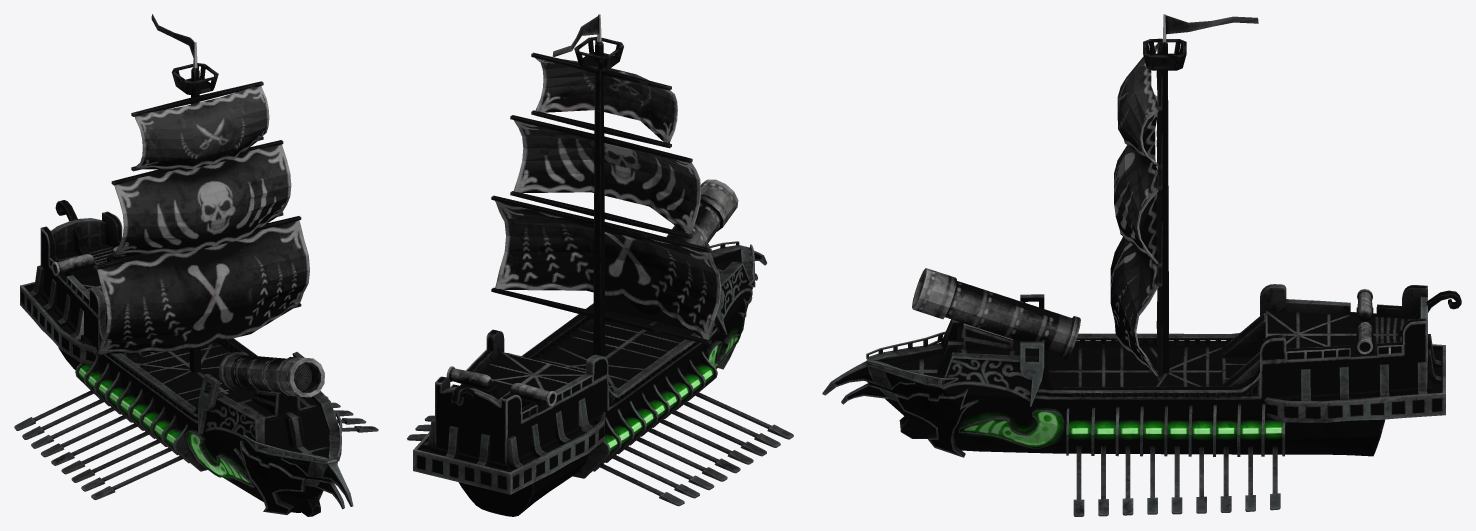
File: gemi11_uv.glb
3 views of the same model, side by side, from view 1: azimuth 30°, elevation 25°; view 2: azimuth 150°, elevation 25°; view 3: azimuth 270°, elevation 25° (orthographic). The views are drawn at different scales.
Parts seen in each view (by area): view 1: part_2_Yelken_Sağlam.001, part_1_Gövde.005, part_0_Gövde.006; view 2: part_1_Gövde.005, part_2_Yelken_Sağlam.001, part_0_Gövde.006; view 3: part_1_Gövde.005, part_2_Yelken_Sağlam.001, part_0_Gövde.006.
Boxes of the visible parts, <box> form: part_2_Yelken_Sağlam.001: <box>93,14,309,372</box>; part_1_Gövde.005: <box>14,200,378,516</box>; part_0_Gövde.006: <box>219,352,324,397</box>; part_1_Gövde.005: <box>407,241,793,516</box>; part_2_Yelken_Sağlam.001: <box>491,14,720,356</box>; part_0_Gövde.006: <box>629,179,738,315</box>; part_1_Gövde.005: <box>822,284,1461,516</box>; part_2_Yelken_Sağlam.001: <box>1110,14,1258,380</box>; part_0_Gövde.006: <box>912,268,1080,359</box>.
Bounding box in the file's own units: 20.64 × 27.77 × 36.97.
1 material, 1 textured.
